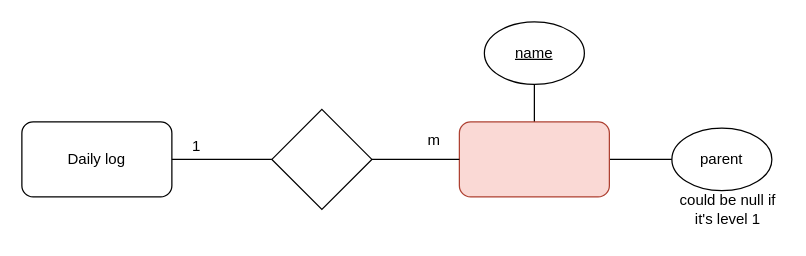
Some shapes in this 806 by 256 pixel diagram are drawn without their labels. The centre of each missing label's shape, as x and y in pixels:
"access" belongs at point (321, 158).
"Level" belongs at point (533, 159).
